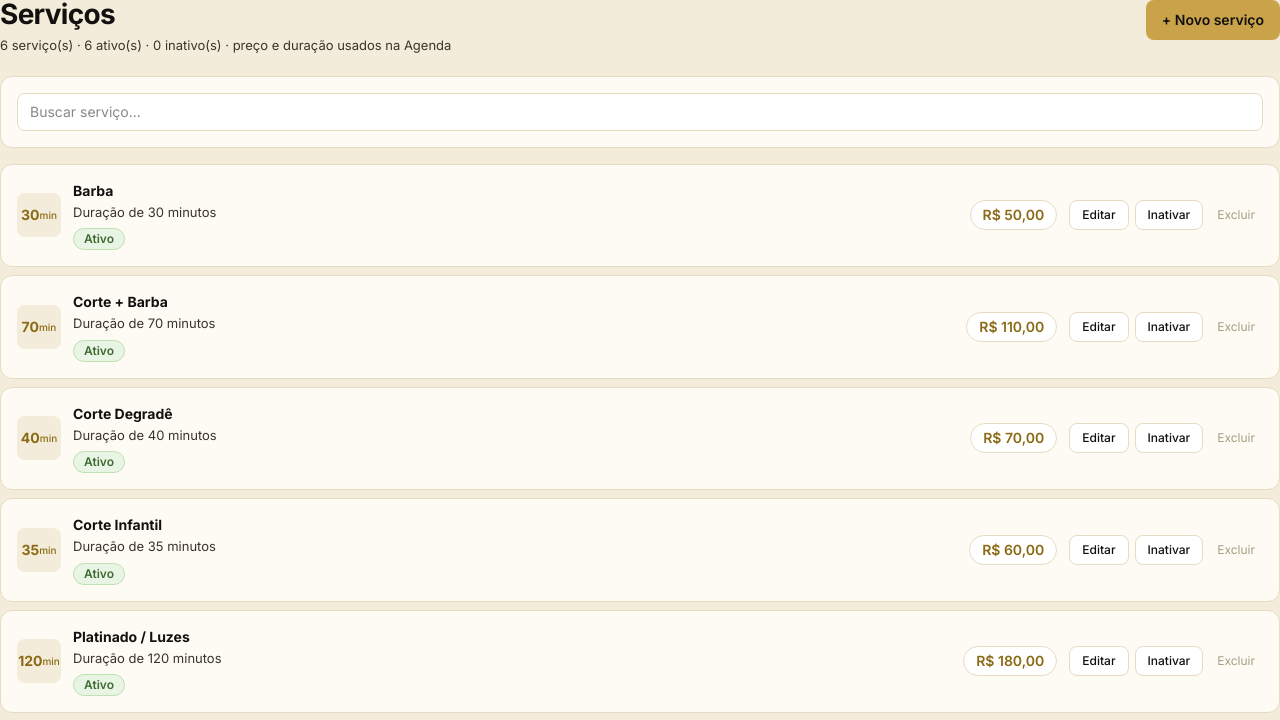
Test: Serviços — exclusão protegida pelo histórico › recusa excluir serviço usado em agendamento e caixa, preservando tudo
Click the button with aria-label "Excluir Corte Degradê" at (1236, 438), box [1209,423,1263,453]
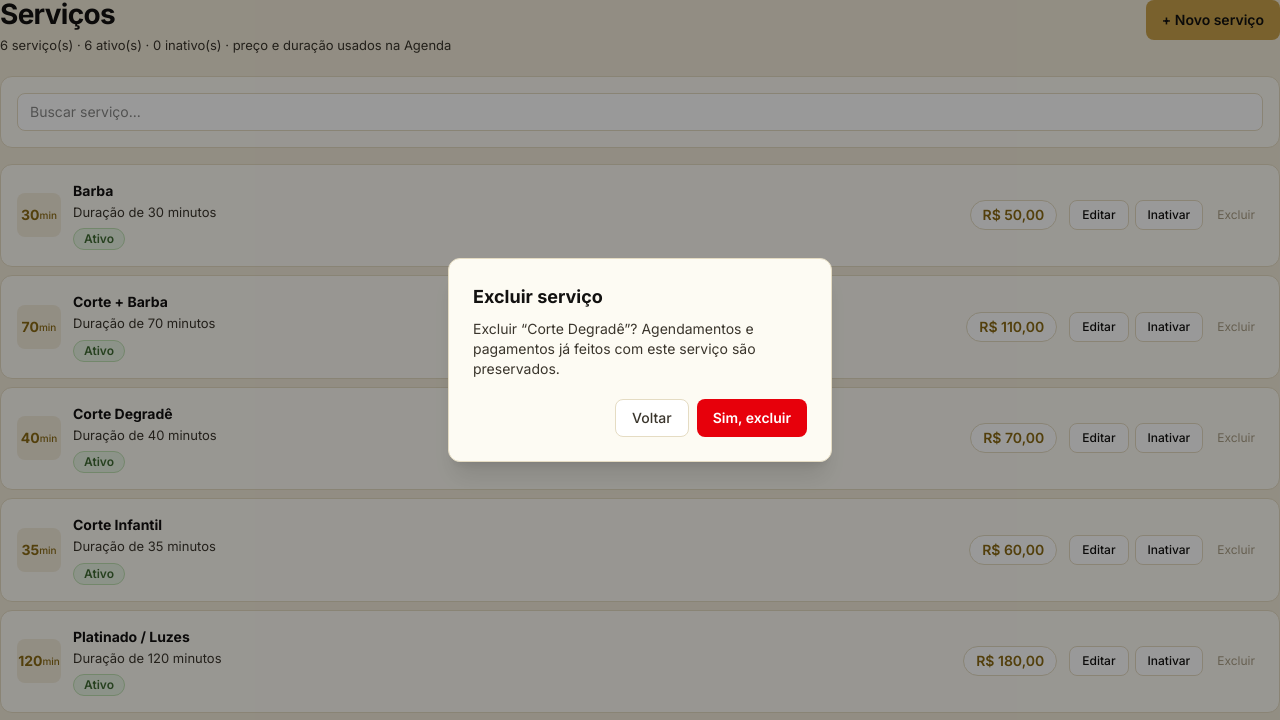
Now the heading "Excluir serviço" is shown, box [473,286,603,307]
Click the button "Sim, excluir" at (752, 418), box [697,399,807,437]
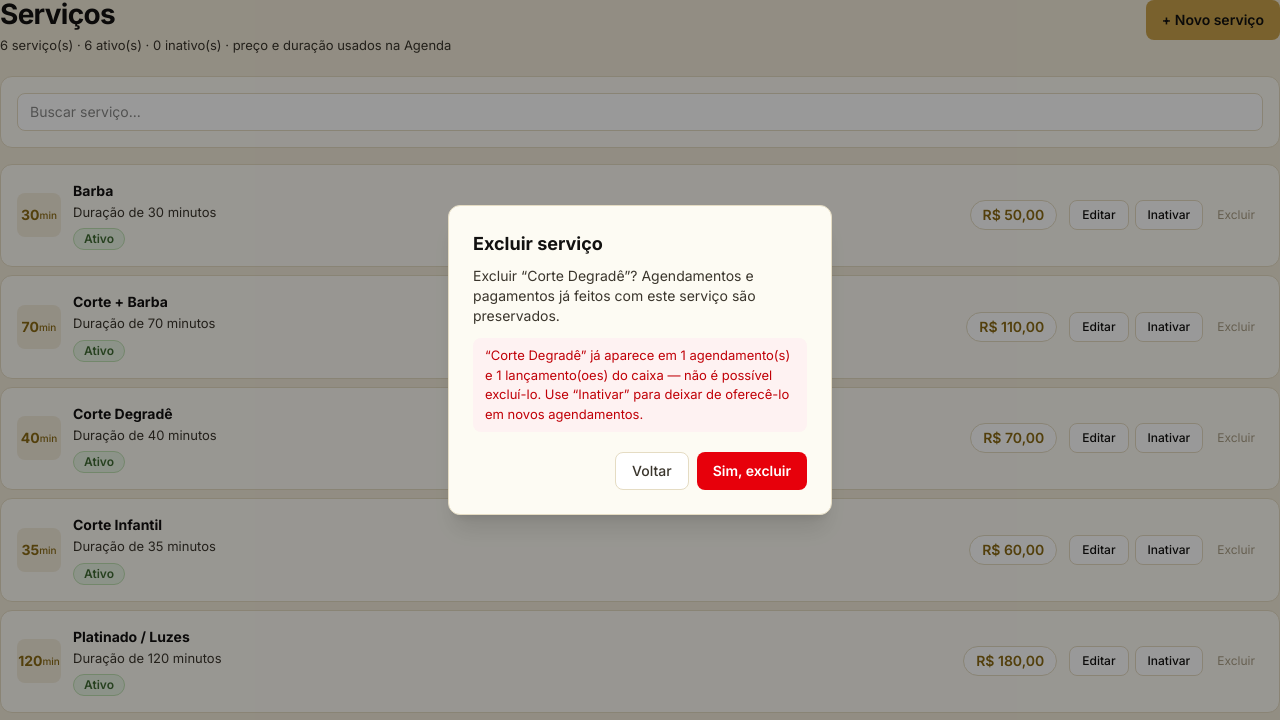
Expected: the button with aria-label "Excluir Corte Degradê" is shown, [1209,423,1263,453]
Now the text "não é possível excluí-lo" is shown, box [485,347,790,422]
Click the button "Voltar" at (652, 471), box [615,452,689,490]
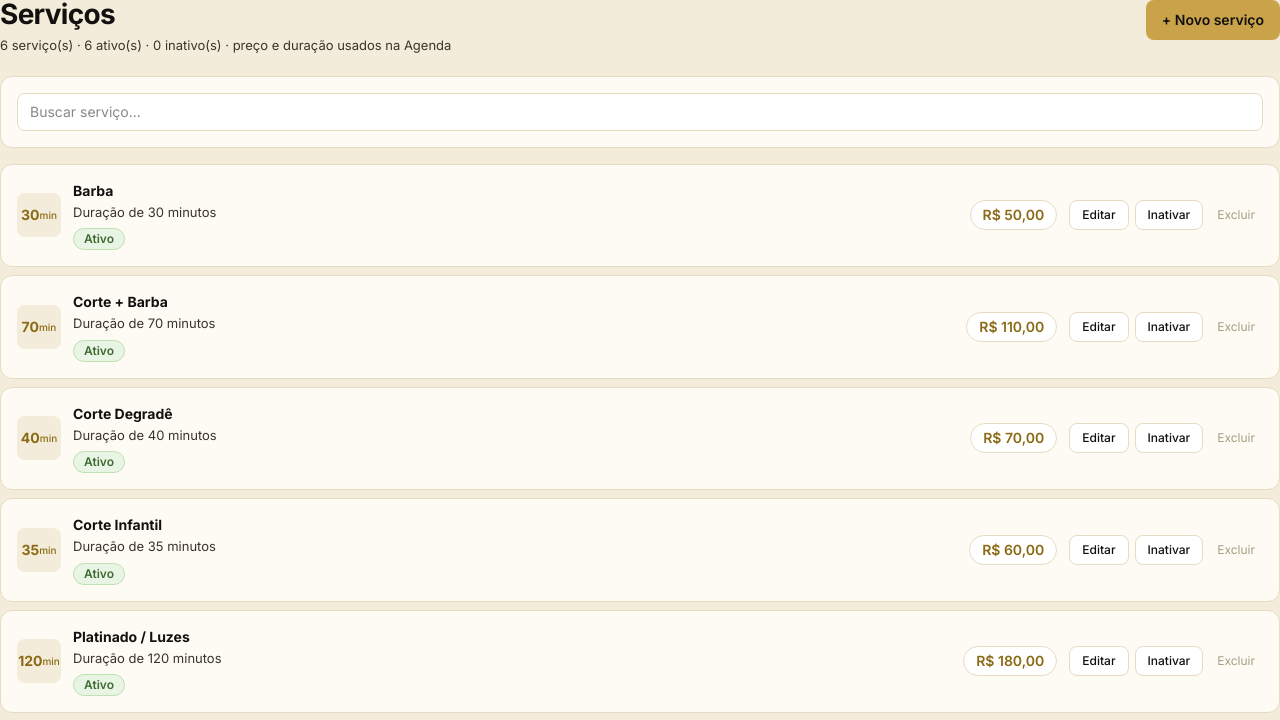
Now the heading "Excluir serviço" is gone
